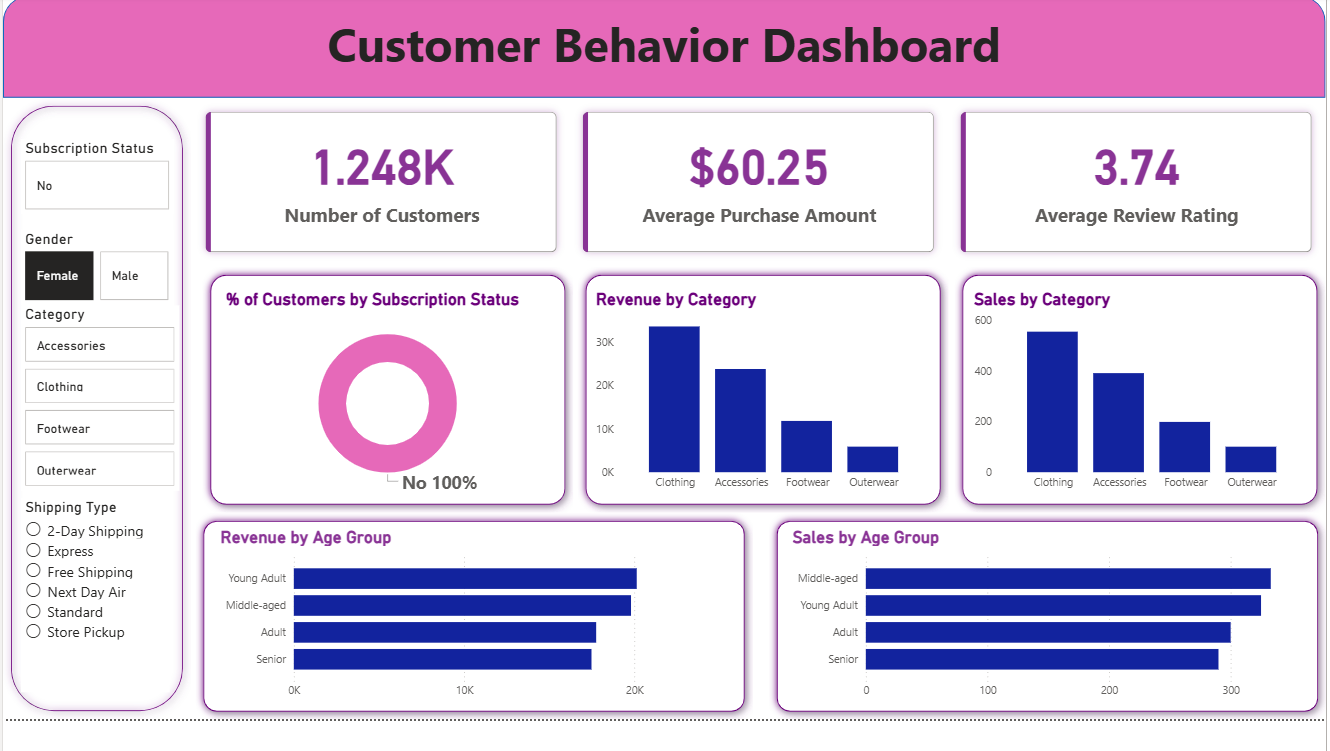

Layout of this report page (visuals, bound fields, positions):
{"tool":"powerbi","page":{"name":"Page 1","canvas":[1500,820],"ordinal":0},"visuals":[{"type":"cardVisual","fields":{"Data":["public customer.Number of Customers","public customer.Average Purchase Amount","public customer.Average Review Rating"]},"box":[212.9,115.3,1286.5,191.6],"z":2000},{"type":"shape","box":[218.3,585.6,631.7,234.2],"z":2500,"group":"g1"},{"type":"shape","box":[0,0,1499.4,115.3],"z":3000},{"type":"textbox","box":[0,12.4,1499.4,102.9],"z":4000},{"type":"shape","box":[225.4,307,420.5,278.6],"z":5000},{"type":"donutChart","title":"% of Customers by Subscription Status","fields":{"Category":["public customer.subscription_status"],"Y":["CountNonNull(public customer.customer_id)"]},"box":[248.4,331.8,376.2,237.8],"z":6000},{"type":"shape","box":[1078.9,307,420.5,278.6],"z":7000},{"type":"shape","box":[652.1,307,420.5,278.6],"z":8000},{"type":"clusteredColumnChart","title":"Revenue by Category","fields":{"Y":["Sum(public customer.purchase_amount)"],"Category":["public customer.category"]},"box":[667.2,331.8,385.1,237.8],"z":9000},{"type":"clusteredColumnChart","title":"Sales by Category","fields":{"Y":["CountNonNull(public customer.customer_id)"],"Category":["public customer.category"]},"box":[1096.6,331.8,385.1,237.8],"z":10000},{"type":"shape","box":[0,115.3,212.9,704.5],"z":11000},{"type":"advancedSlicerVisual","fields":{"Values":["public customer.subscription_status"]},"box":[19.5,161.5,173.9,85.2],"z":12000},{"type":"advancedSlicerVisual","fields":{"Values":["public customer.gender"]},"box":[19.5,264.4,173.9,85.2],"z":13000},{"type":"advancedSlicerVisual","fields":{"Values":["public customer.category"]},"box":[20.3,350.8,179.3,210.5],"z":14000},{"type":"listSlicer","fields":{"Values":["public customer.shipping_type"]},"box":[19.5,569.6,168.6,220],"z":15000},{"type":"shape","box":[867.7,585.6,631.7,234.2],"z":16000},{"type":"clusteredBarChart","title":"Sales by Age Group","fields":{"Y":["CountNonNull(public customer.customer_id)"],"Category":["public customer.age_group"]},"box":[890.8,601.5,585.6,204.1],"z":17000},{"type":"clusteredBarChart","title":"Revenue by Age Group","fields":{"Y":["Sum(public customer.purchase_amount)"],"Category":["public customer.age_group"]},"box":[241.4,601.6,585.6,204.1],"z":17500,"group":"g1"},{"type":"group","id":"g1","title":"Group 1","box":[218.3,585.6,631.7,234.2],"z":17501}]}

Visuals, with their boxes on the page's 1500x820 design canvas (x1, y1, x2, y2). These are canvas units, not pixel positions in the 1330x751 screenshot, which may show the page scaled, cropped or inside an application window:
cardVisual - public customer.Number of Customers x public customer.Average Purchase Amount: {"left": 213, "top": 115, "right": 1499, "bottom": 307}
shape: {"left": 218, "top": 586, "right": 850, "bottom": 820}
shape: {"left": 0, "top": 0, "right": 1499, "bottom": 115}
textbox: {"left": 0, "top": 12, "right": 1499, "bottom": 115}
shape: {"left": 225, "top": 307, "right": 646, "bottom": 586}
"% of Customers by Subscription Status" donutChart: {"left": 248, "top": 332, "right": 625, "bottom": 570}
shape: {"left": 1079, "top": 307, "right": 1499, "bottom": 586}
shape: {"left": 652, "top": 307, "right": 1073, "bottom": 586}
"Revenue by Category" clusteredColumnChart: {"left": 667, "top": 332, "right": 1052, "bottom": 570}
"Sales by Category" clusteredColumnChart: {"left": 1097, "top": 332, "right": 1482, "bottom": 570}
shape: {"left": 0, "top": 115, "right": 213, "bottom": 820}
advancedSlicerVisual - public customer.subscription_status: {"left": 20, "top": 162, "right": 193, "bottom": 247}
advancedSlicerVisual - public customer.gender: {"left": 20, "top": 264, "right": 193, "bottom": 350}
advancedSlicerVisual - public customer.category: {"left": 20, "top": 351, "right": 200, "bottom": 561}
listSlicer - public customer.shipping_type: {"left": 20, "top": 570, "right": 188, "bottom": 790}
shape: {"left": 868, "top": 586, "right": 1499, "bottom": 820}
"Sales by Age Group" clusteredBarChart: {"left": 891, "top": 602, "right": 1476, "bottom": 806}
"Revenue by Age Group" clusteredBarChart: {"left": 241, "top": 602, "right": 827, "bottom": 806}
"Group 1" group: {"left": 218, "top": 586, "right": 850, "bottom": 820}
